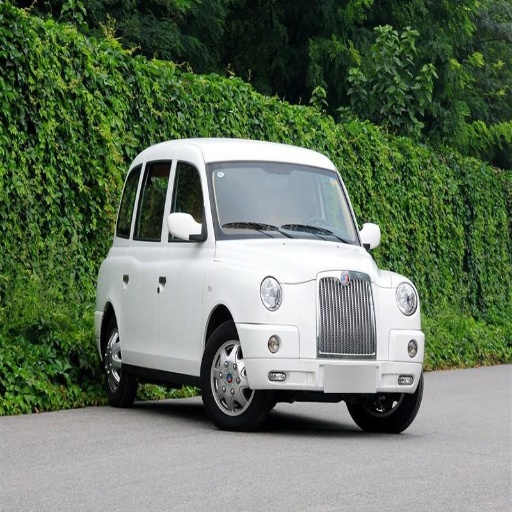front_bumper: (240, 271, 422, 394)
front_right_door: (157, 158, 212, 367)
hood: (243, 238, 384, 282)
